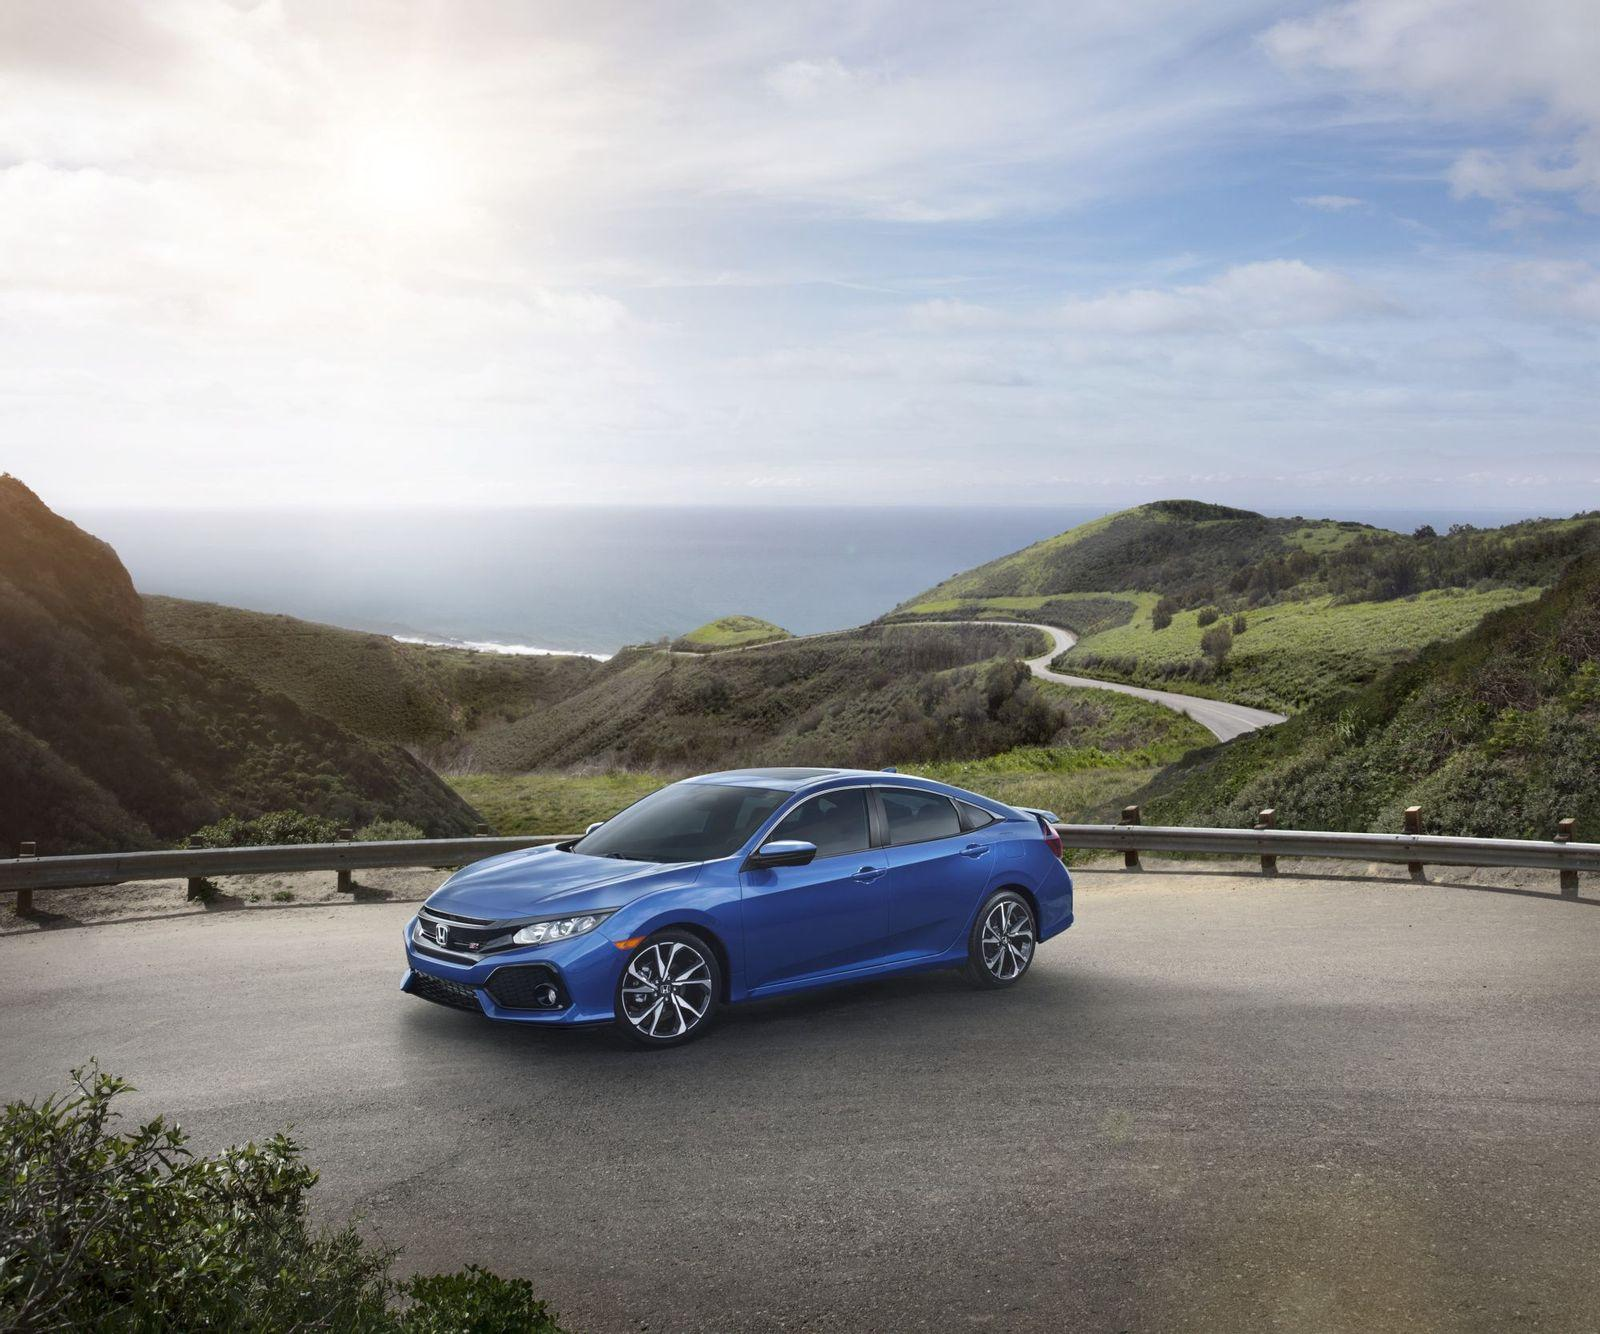car: (388, 755, 1087, 1048)
